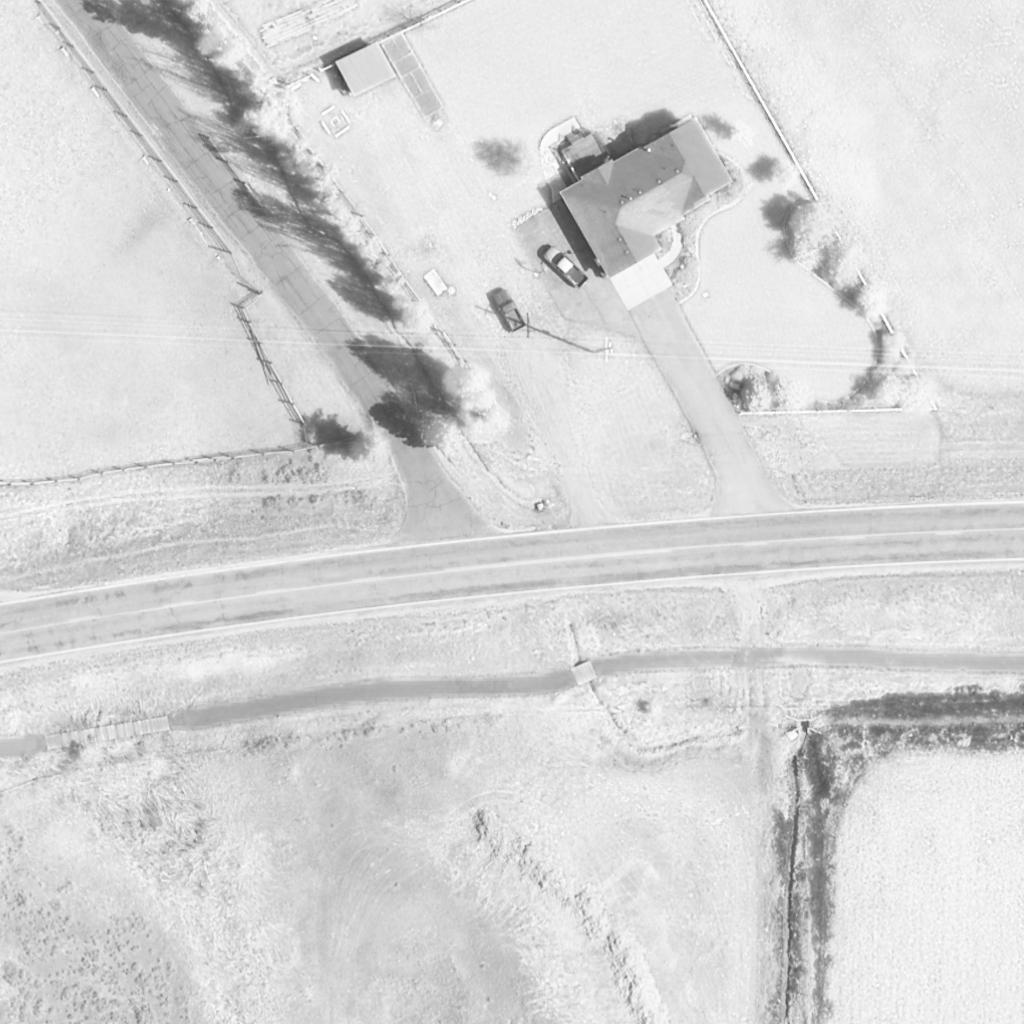vehicle: (537, 246, 591, 290), (489, 289, 527, 333)
